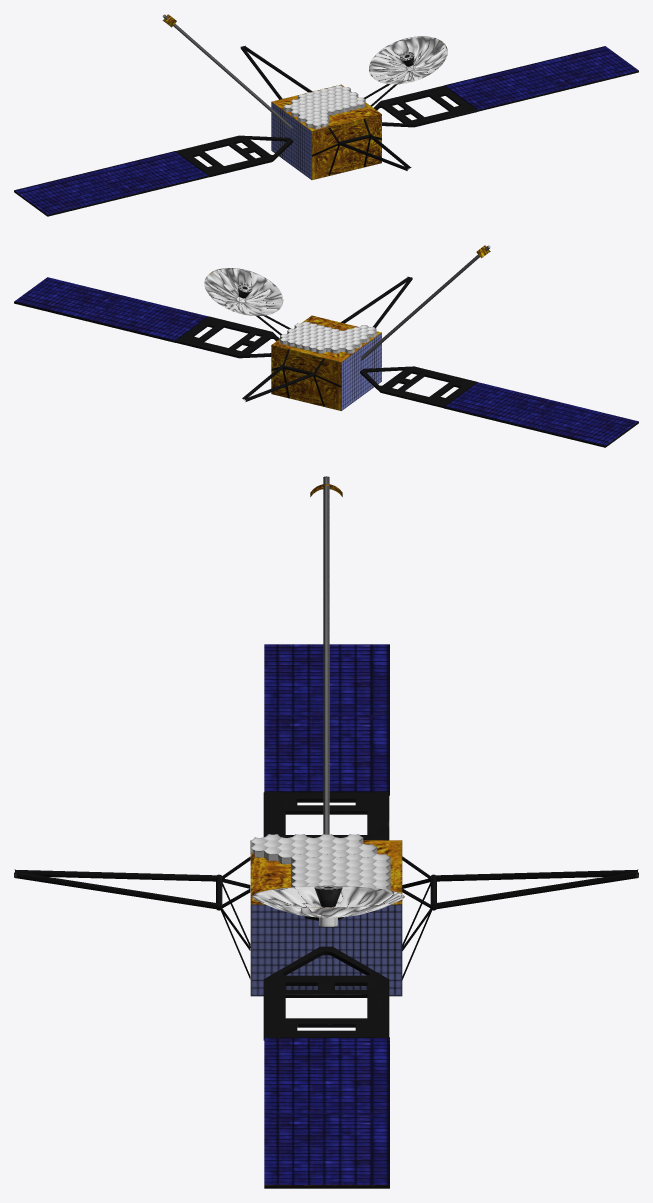
The model's file is tracking-and-data-relay-tdrs-c-3.glb.
The picture shows the model from 3 angles, top to bottom: view 1: azimuth 30°, elevation 25°; view 2: azimuth 150°, elevation 25°; view 3: azimuth 270°, elevation 25°; orthographic projection. The views are drawn at different scales.
Visible parts, largest first — view 1: tdrs_no_an; view 2: tdrs_no_an; view 3: tdrs_no_an.
Part boxes in pixels (<box>): tdrs_no_an: <box>14,14,638,216</box>; tdrs_no_an: <box>14,245,638,447</box>; tdrs_no_an: <box>14,476,638,1188</box>.
Size of the model in its own units: 40.73 by 11.95 by 19.91.
8 materials, 8 textured.
